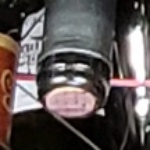bottle: (23, 48, 120, 135)
